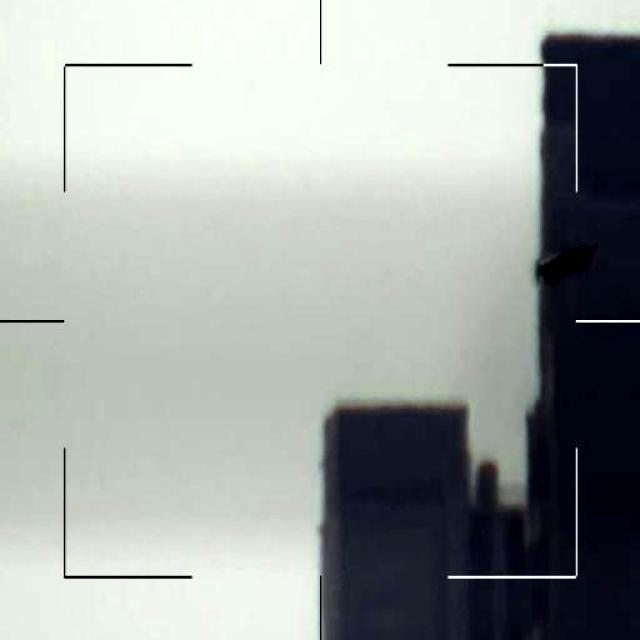bird: (542, 241, 609, 286)
